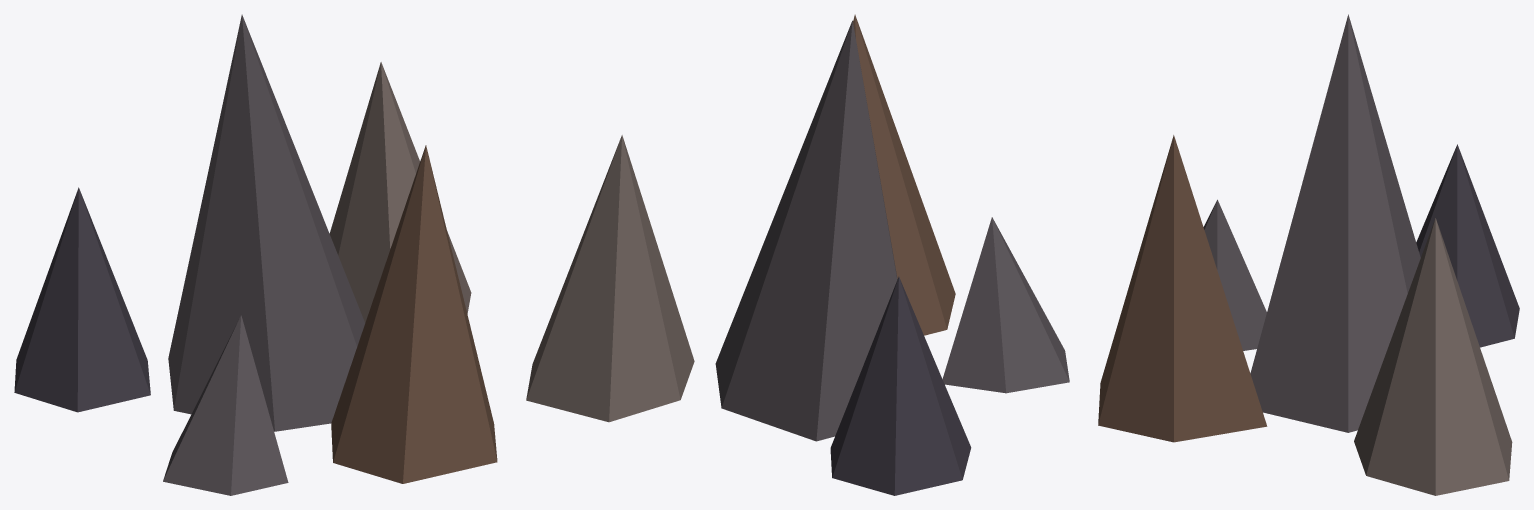
File: stalagmite_cluster.fbx
3 views of the same model, side by side, from view 1: azimuth 30°, elevation 25°; view 2: azimuth 150°, elevation 25°; view 3: azimuth 270°, elevation 25° (orthographic). The views are drawn at different scales.
Visible parts, largest first — view 1: stalagmite_cluster; view 2: stalagmite_cluster; view 3: stalagmite_cluster.
Part boxes in pixels (x1,y1,x2,y2): stalagmite_cluster: (14, 14, 497, 495); stalagmite_cluster: (526, 14, 1069, 495); stalagmite_cluster: (1098, 14, 1519, 495).
Bounding box in the file's own units: 2.21 × 1.8 × 1.93.
